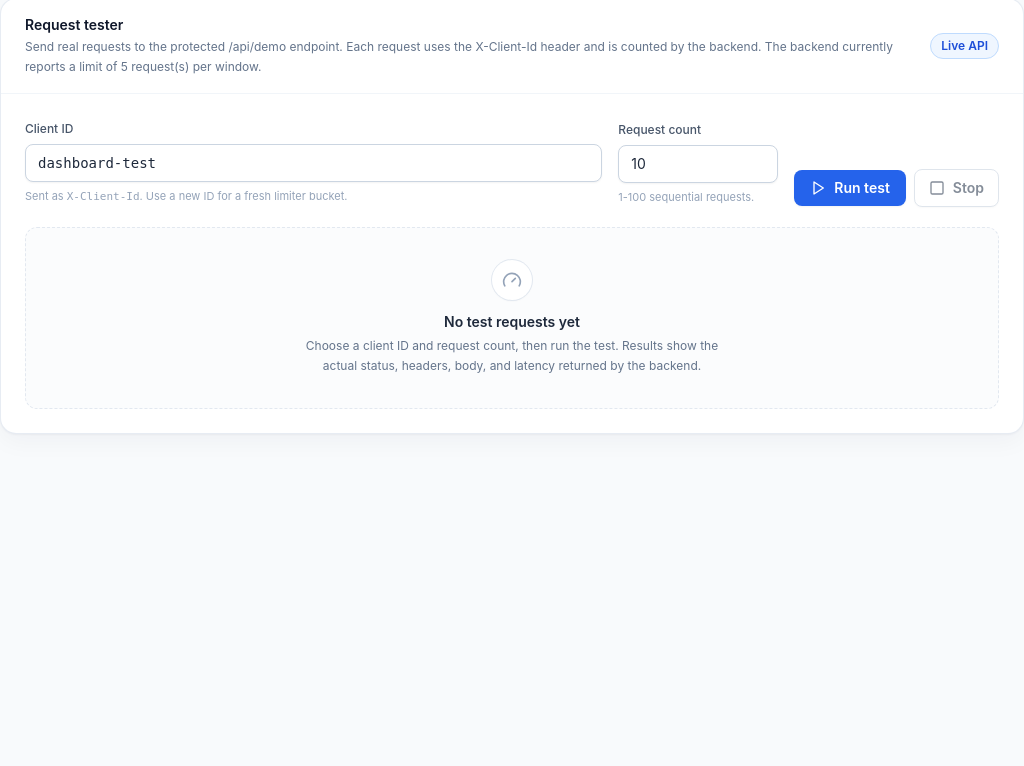
Test: RequestTester › separates actual 200 and 429 responses and shows headers and bodies
The image size is (1024, 766).
Replace the text in the field labelled "Client ID" with "phase1-test": (314, 163) [25,144,602,182]
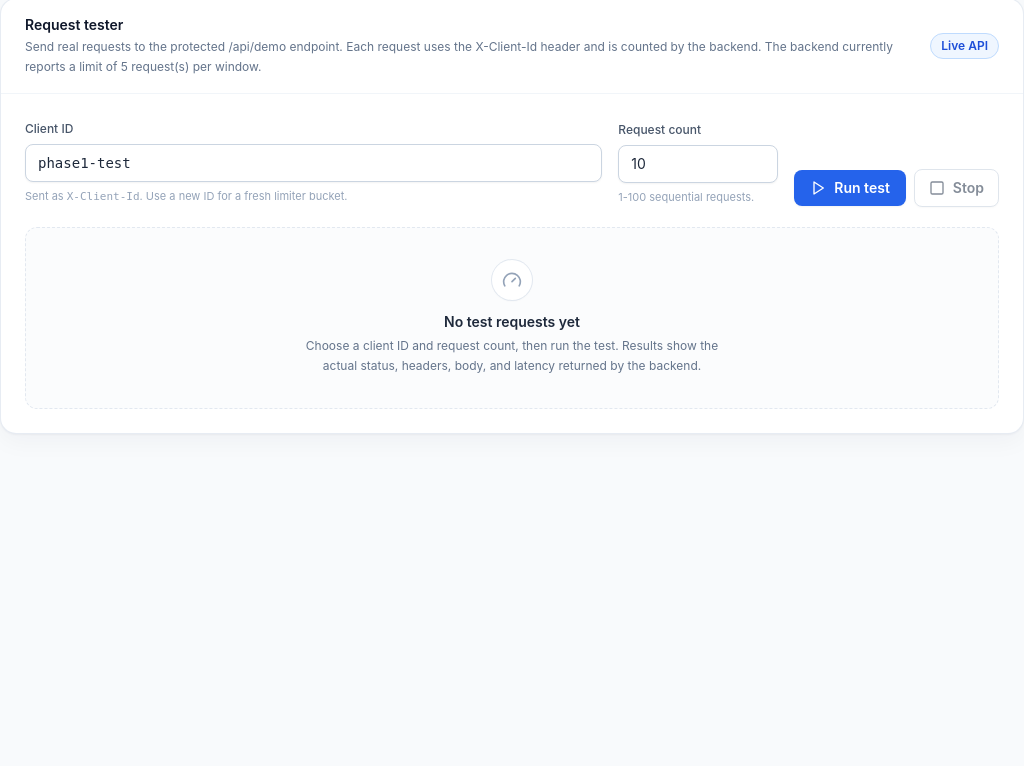
Replace the text in the number field labelled "Request count" with "3": (698, 164) [618,145,778,183]
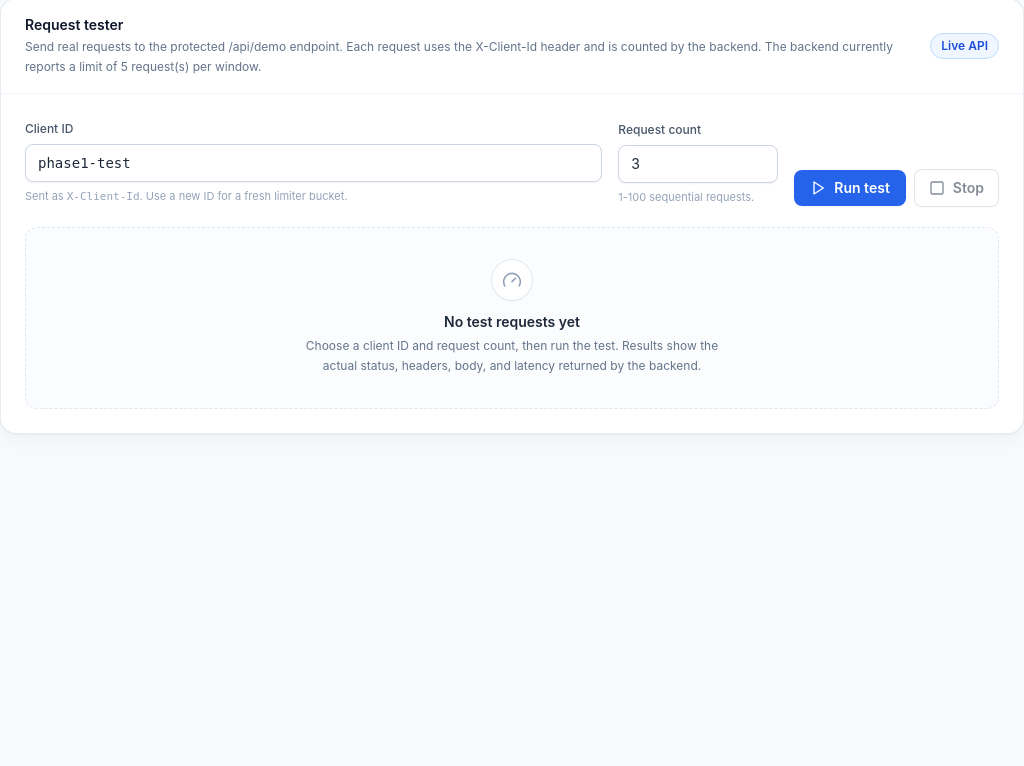
Click the button "Run test": (850, 188) [794,170,906,206]
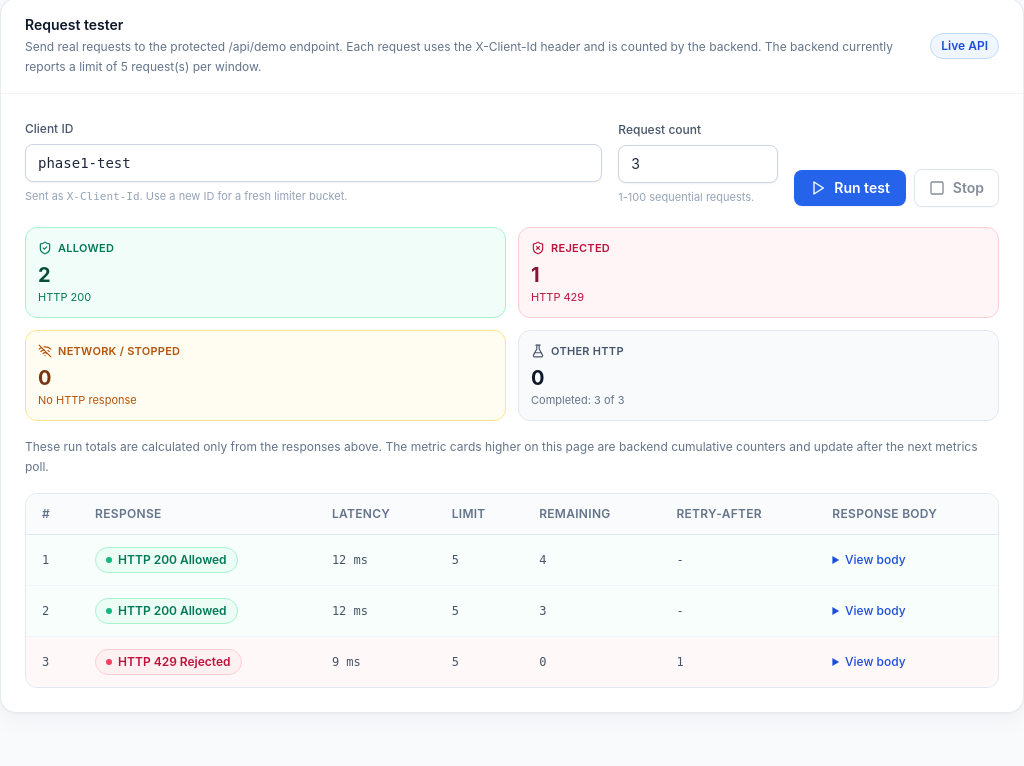
Expected: the text with test id "request-tester-allowed" reads "2", [38,262,51,286]
Expected: the text with test id "request-tester-rejected" reads "1", [531,262,540,286]
Expected: the text with test id "request-tester-failed" reads "0", [38,366,52,390]
Click the heading "View body" in the row of "HTTP 429 Rejected": (875, 662) [845,654,906,669]
(page scrolled)
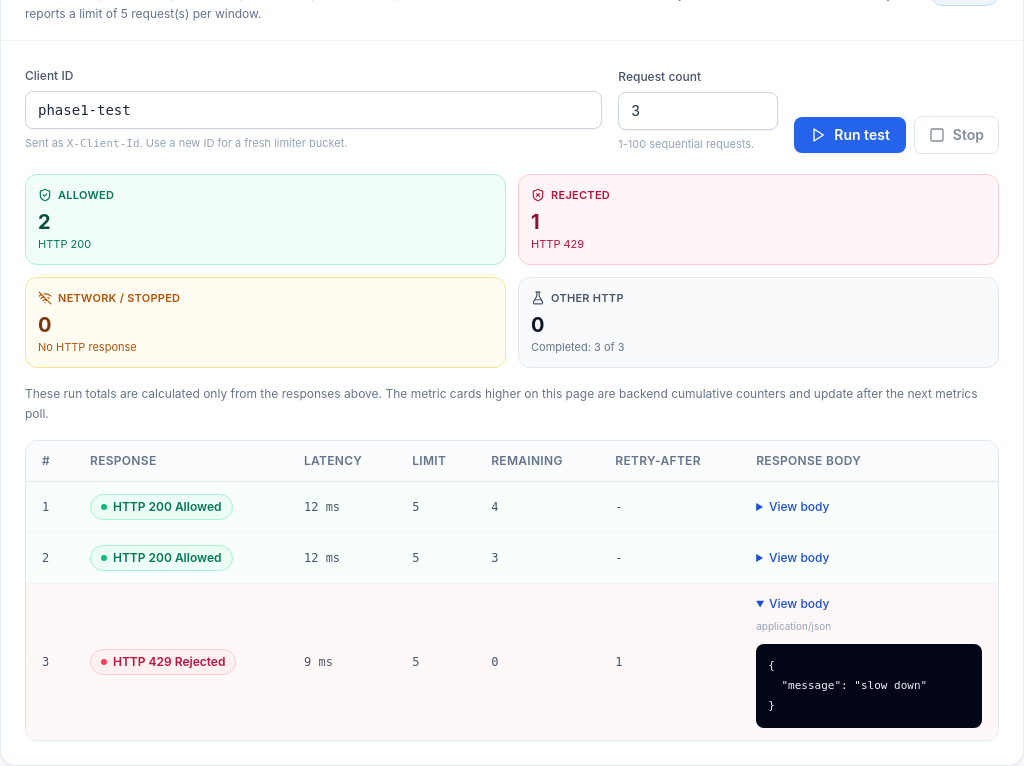
Expected: the text "{ \"message\": \"slow down\" }" is shown, [756,644,982,728]
